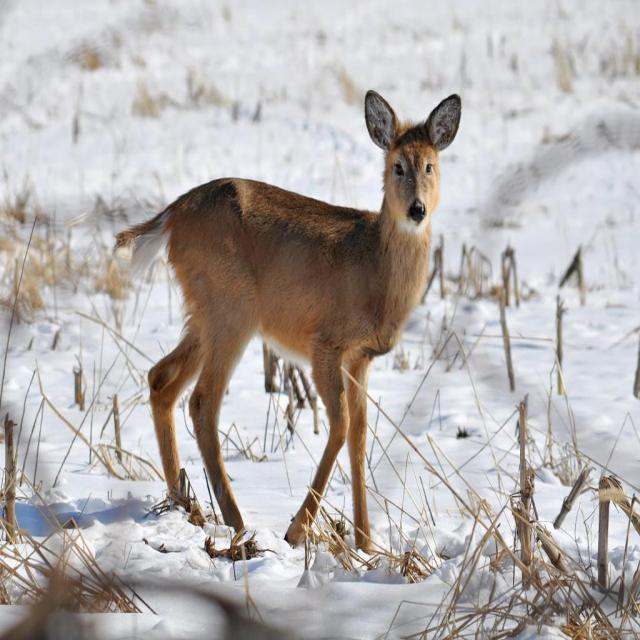Deer: (122, 86, 464, 550)
